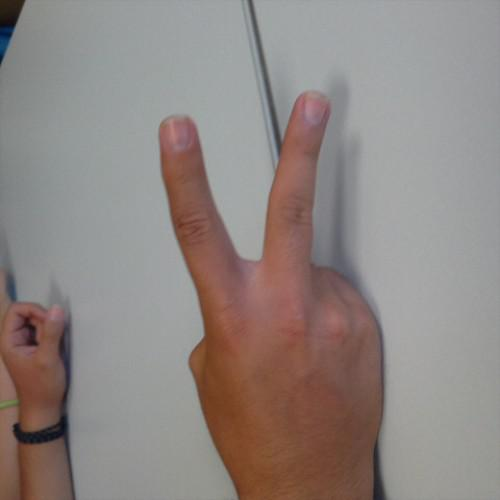scissors: (146, 83, 391, 484), (1, 296, 75, 412)
